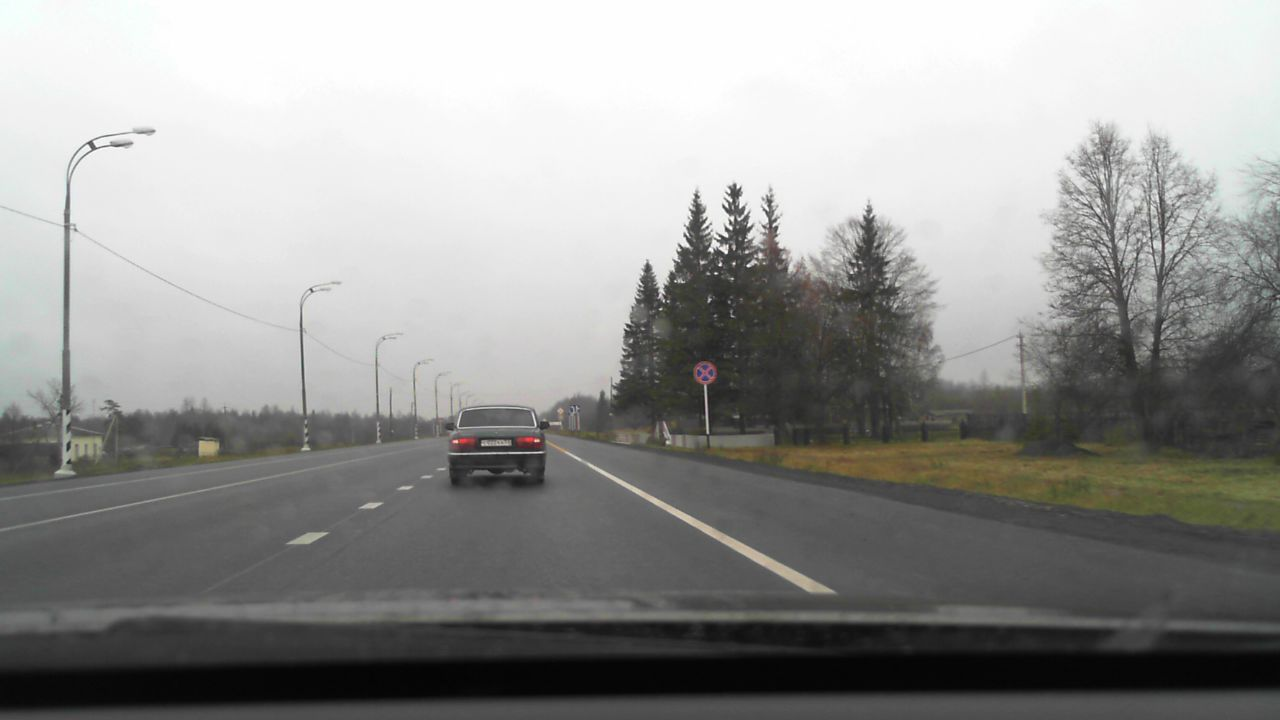No Parking: (693, 360, 717, 384)
